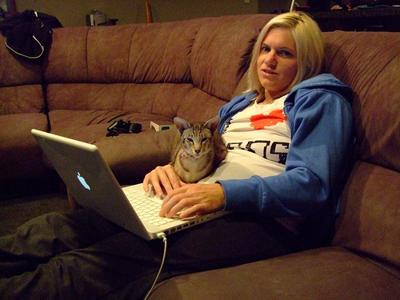person: (2, 10, 360, 300)
